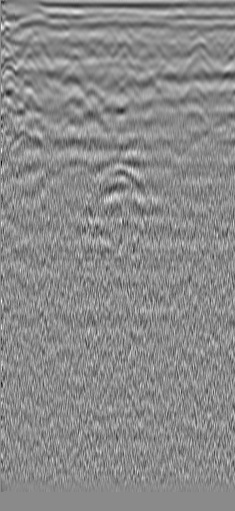상수: (12, 19, 32, 39)
우수: (140, 13, 160, 33)
